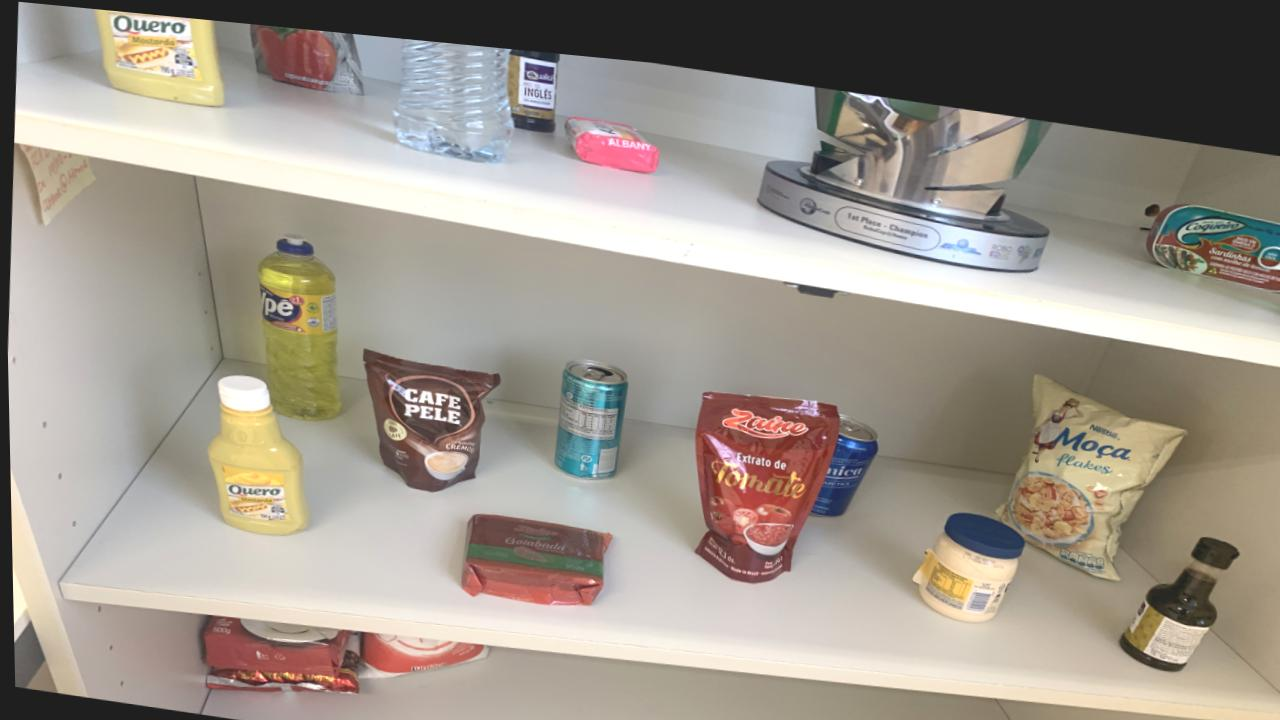Coffee-Pantry_Items: (362, 342, 497, 482)
Detergent-Cleanup_Items: (257, 230, 338, 415)
English_Sauce-Pantry_Items: (1116, 512, 1237, 648), (507, 39, 559, 122)
Flakes-Snacks: (992, 353, 1183, 558)
Guava-Snacks: (457, 504, 610, 594)
Mayonnaise-Pantry_Items: (912, 494, 1021, 604)
Mustard-Pantry_Items: (205, 371, 307, 530), (93, 7, 223, 102)
Soap-Cleanup_Items: (564, 105, 658, 160)
Tea-Drinks: (552, 349, 625, 467)
Tomato_Sauce-Pantry_Items: (692, 377, 837, 568), (250, 19, 362, 87)
Tonic-Drinks: (809, 398, 877, 500)
Tuna_Can-Pantry_Items: (1145, 180, 1280, 266)
Water_Bottle-Drinks: (393, 30, 514, 153)
